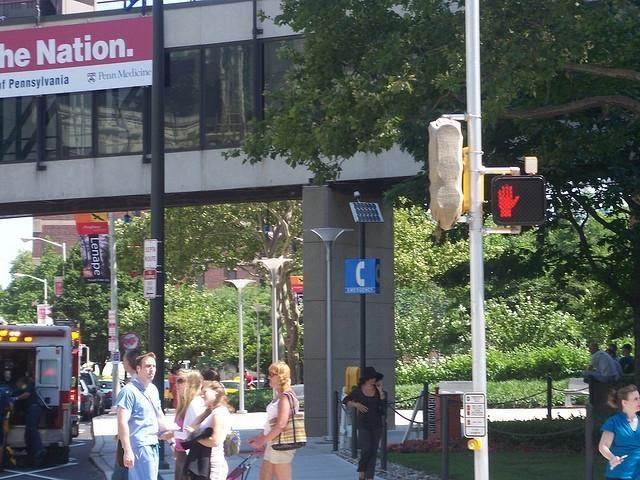car: (76, 378, 100, 420), (78, 373, 102, 409), (98, 379, 114, 407), (222, 376, 240, 394), (254, 379, 264, 387)
truck: (1, 324, 84, 463)
